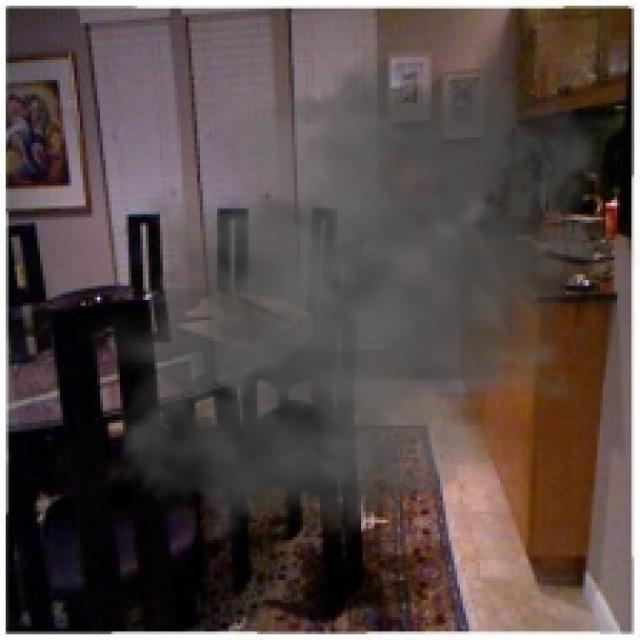smoke: (77, 14, 637, 583)
